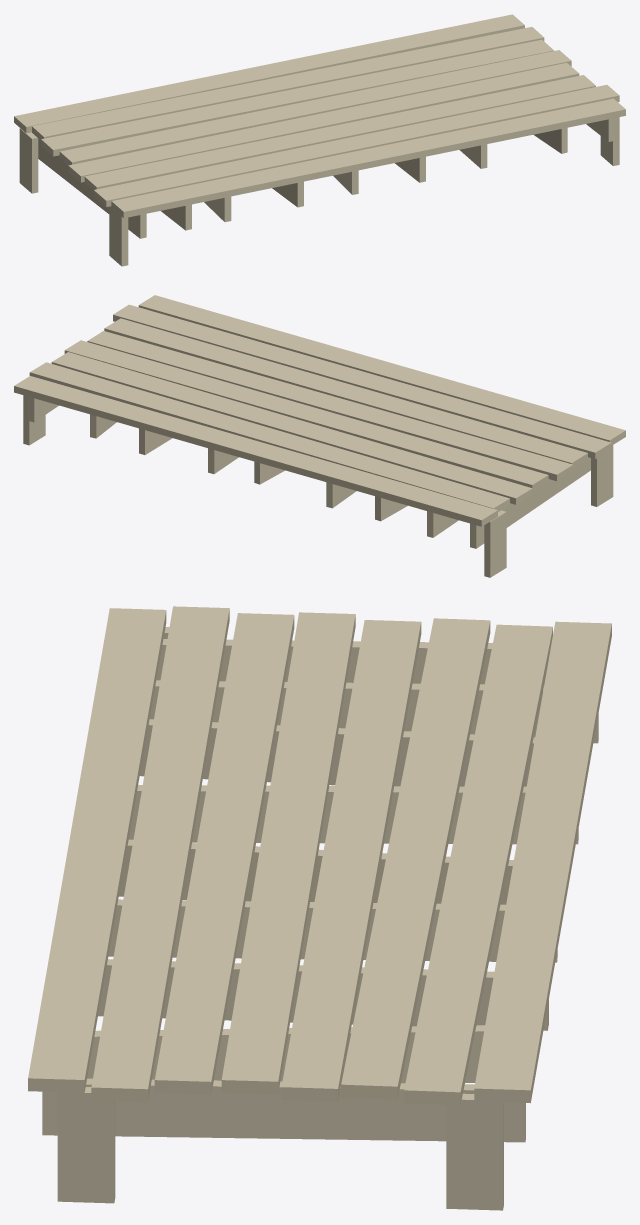
The model's file is Deck.dae.
3 renders of one model, top to bottom at view 1: azimuth 30°, elevation 25°; view 2: azimuth 150°, elevation 25°; view 3: azimuth 270°, elevation 25°, orthographic. The views are drawn at different scales.
Visible parts, largest first — view 1: Deck; view 2: Deck; view 3: Deck.
Boxes of the visible parts, x1,y1,x2,y2 form: Deck: (14,14,625,266); Deck: (14,295,625,577); Deck: (28,606,611,1210).
Bounding box in the file's own units: 3.24 × 1.65 × 0.381.
